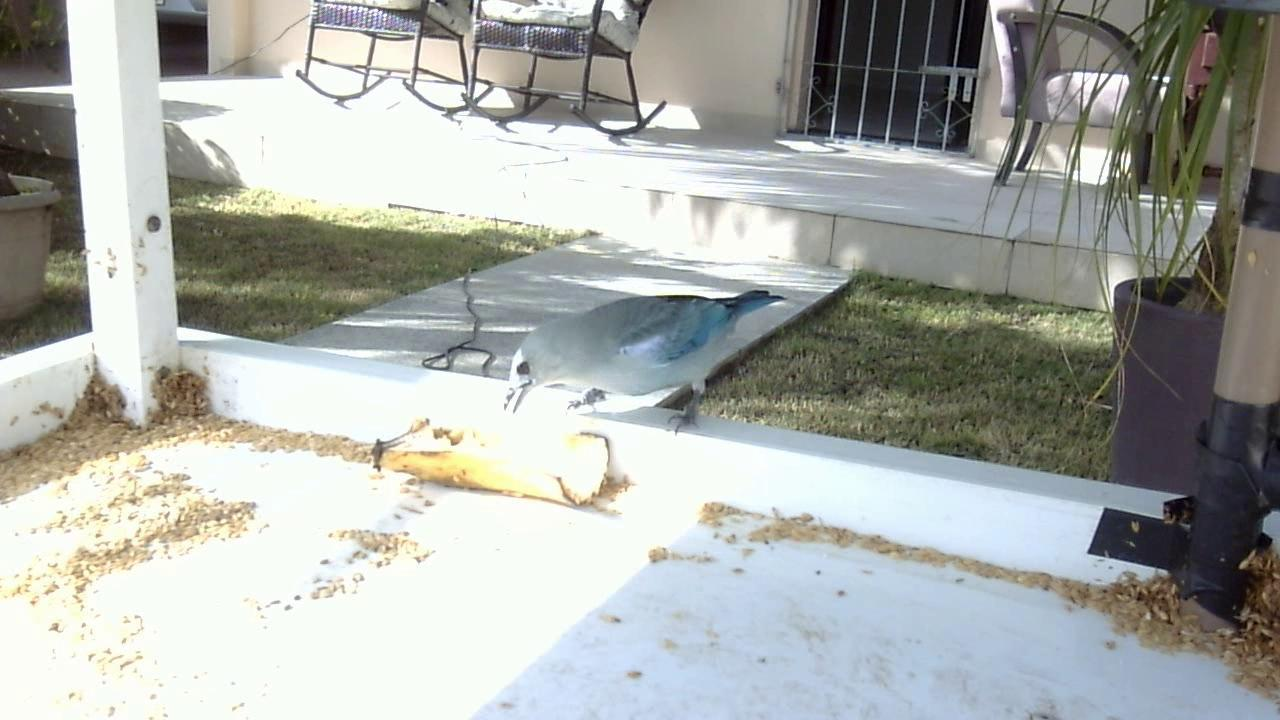sanhaco_da_amazonia: (499, 280, 835, 434)
